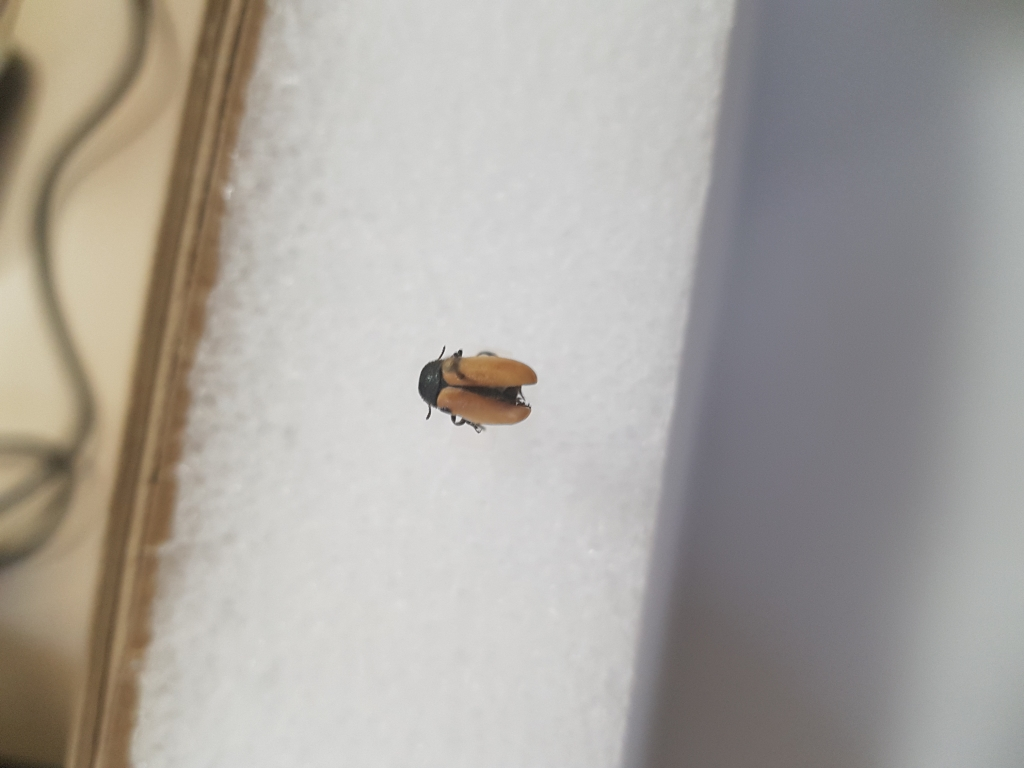Labidostomis_propinqua: (412, 343, 543, 435)
